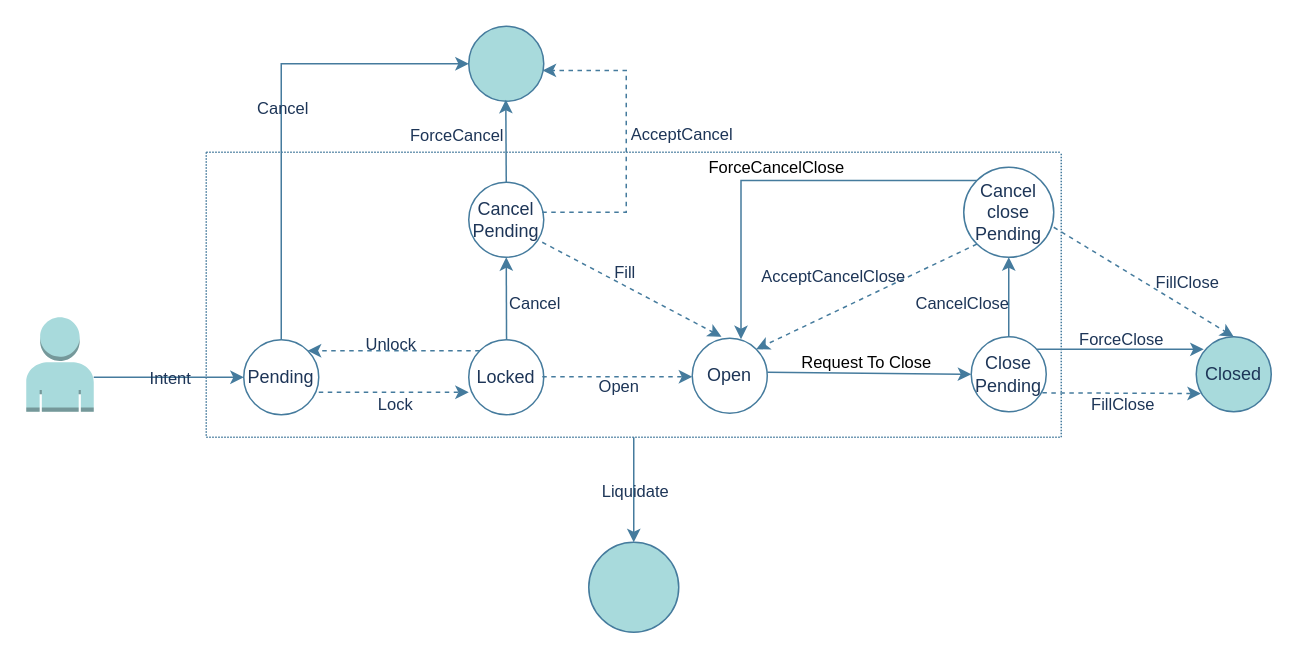
This 1298x659 diagram has some shape labels left out. Each missing label, with the centre of its shape:
Canceled: point 505,63
Liquidated: point 633,586
PartyA: point 59,364
